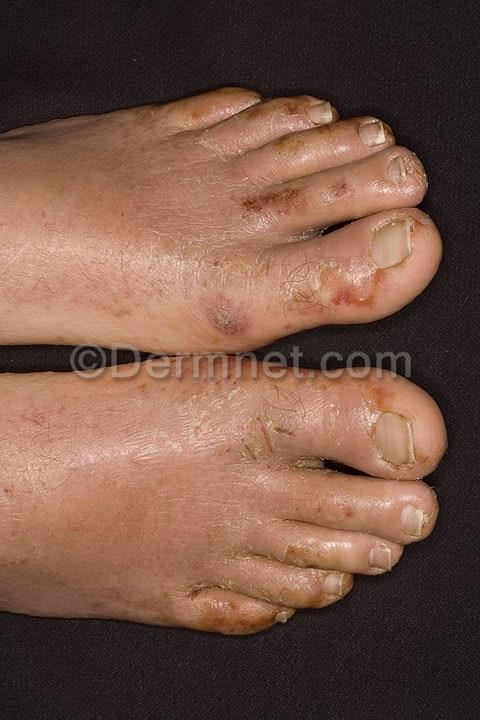Eczema: (126, 366, 290, 476), (152, 246, 262, 338), (277, 256, 379, 327), (207, 179, 308, 240), (190, 569, 270, 635), (301, 458, 372, 530), (333, 364, 405, 430), (322, 177, 379, 234), (250, 96, 305, 149), (270, 526, 312, 562)
